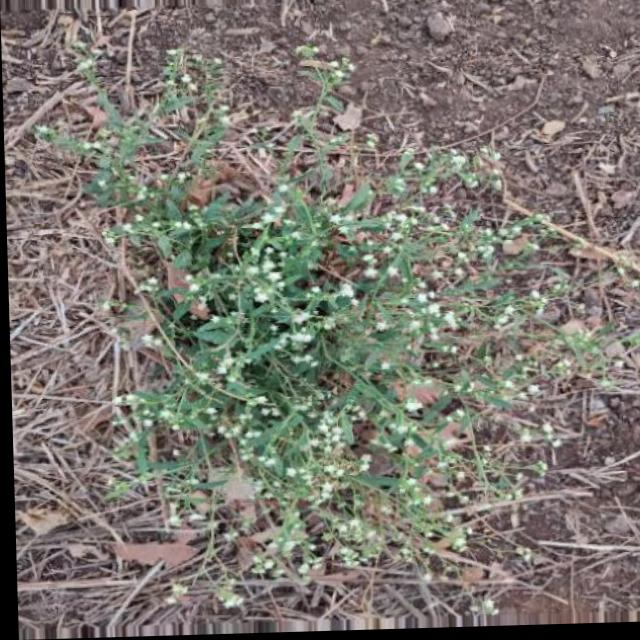weed: (52, 28, 635, 605)
